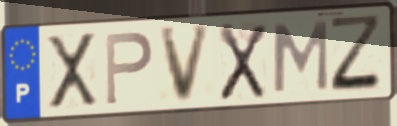M: (270, 18, 330, 95)
P: (103, 30, 155, 108)
V: (157, 22, 215, 106)
X: (44, 31, 100, 113), (217, 22, 269, 103)
Z: (328, 13, 385, 95)
